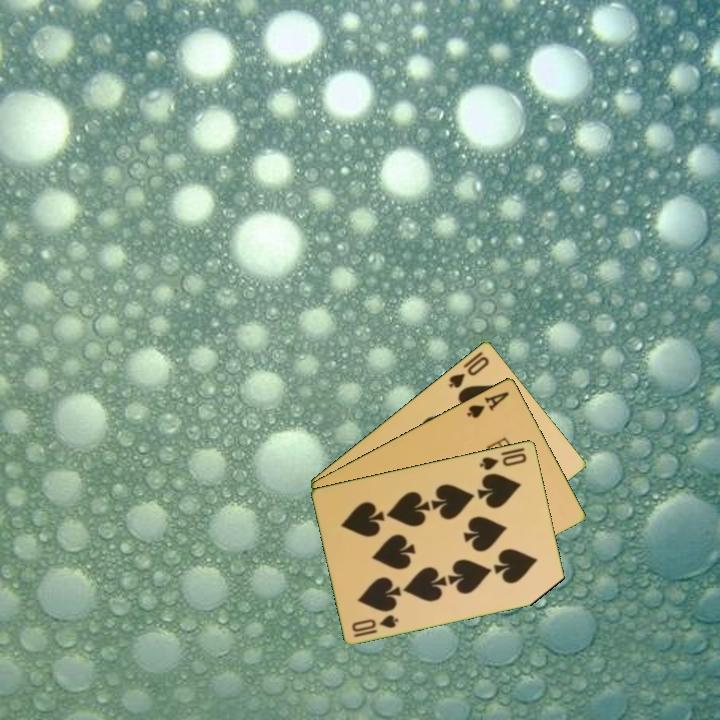10s: (445, 352, 492, 391), (348, 611, 402, 640), (476, 449, 530, 473)
As: (463, 388, 512, 421)
